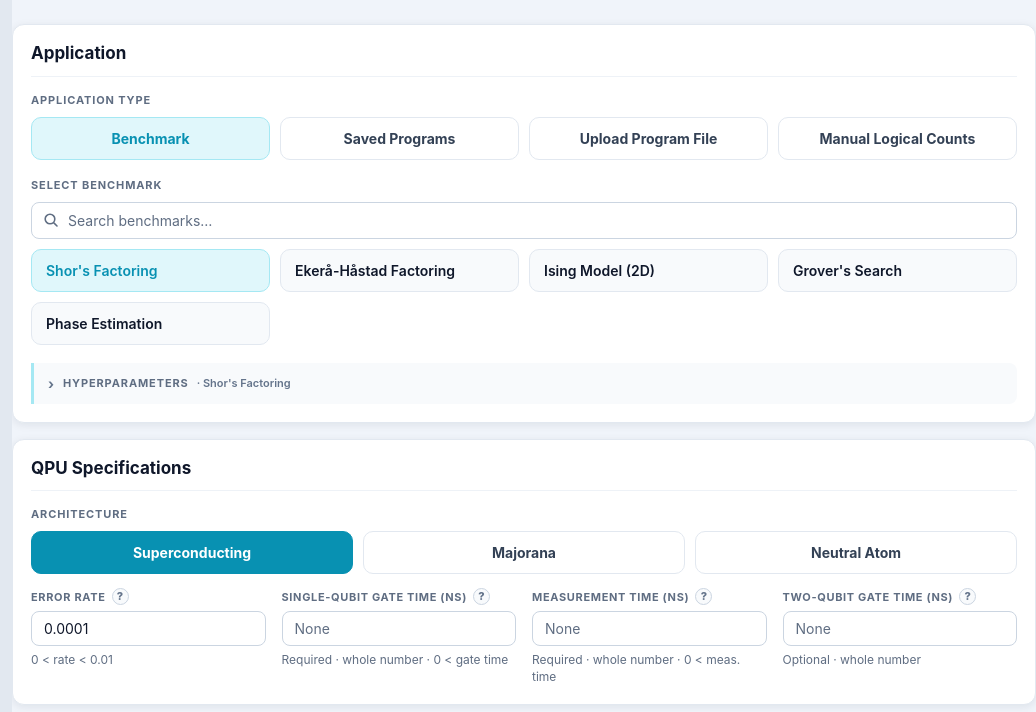
it: Magic State Factory availability and multi-select › lets the set be emptied, blocking Run with a message until one is re-selected
The image size is (1036, 712).
Step 1. Type "50" into the field labelled "Single-Qubit Gate Time (ns)" → (399, 629), box [282,611,516,646]
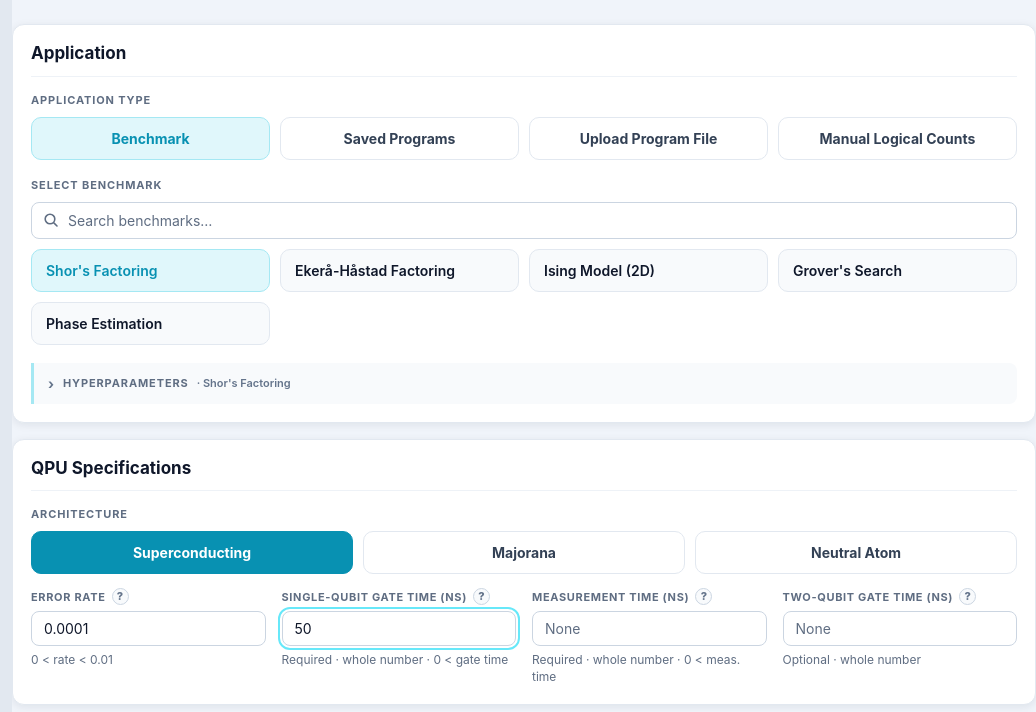
Step 2. Type "100" into the field labelled "Measurement Time (ns)" → (649, 629), box [532,611,766,646]
(page scrolled)
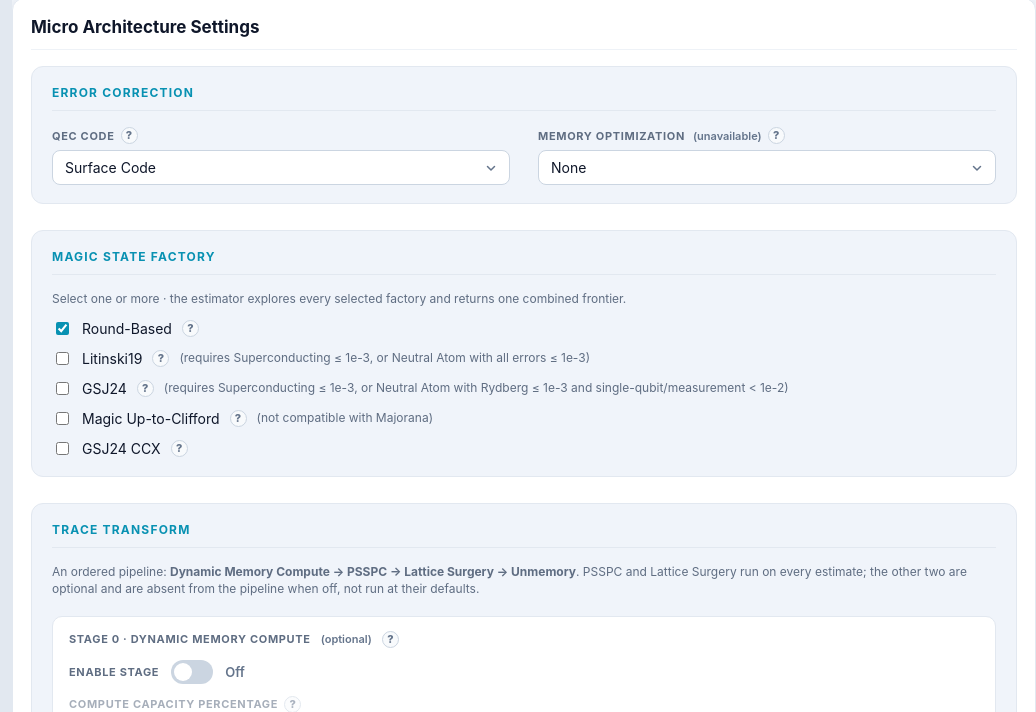
Step 3. Click the checkbox labelled "Round-Based" → (62, 328), box [56,322,69,335]
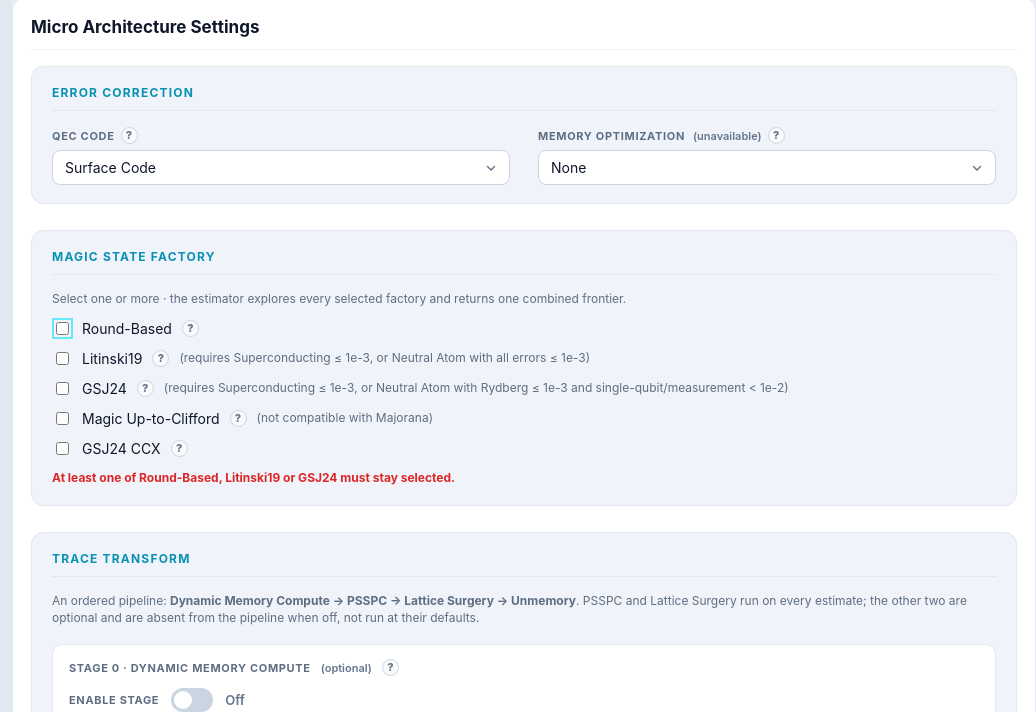
Expected: the checkbox labelled "Round-Based" is not checked, [56,322,69,335]
Expected: the text "At least one of Round-Based, Litinski19 or GSJ24 must stay selected." is shown, [52,470,455,485]
Step 4. Click the checkbox labelled "Litinski19" → (62, 358), box [56,352,69,365]
(page scrolled)
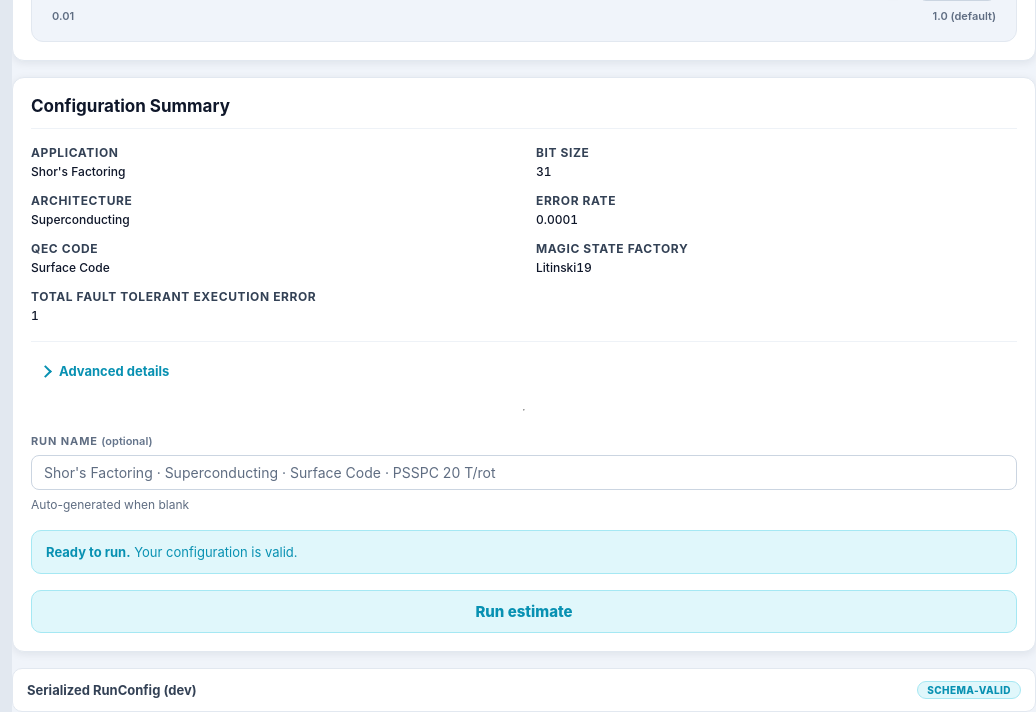
Expected: the button "Run estimate" is enabled, [31,590,1017,633]
